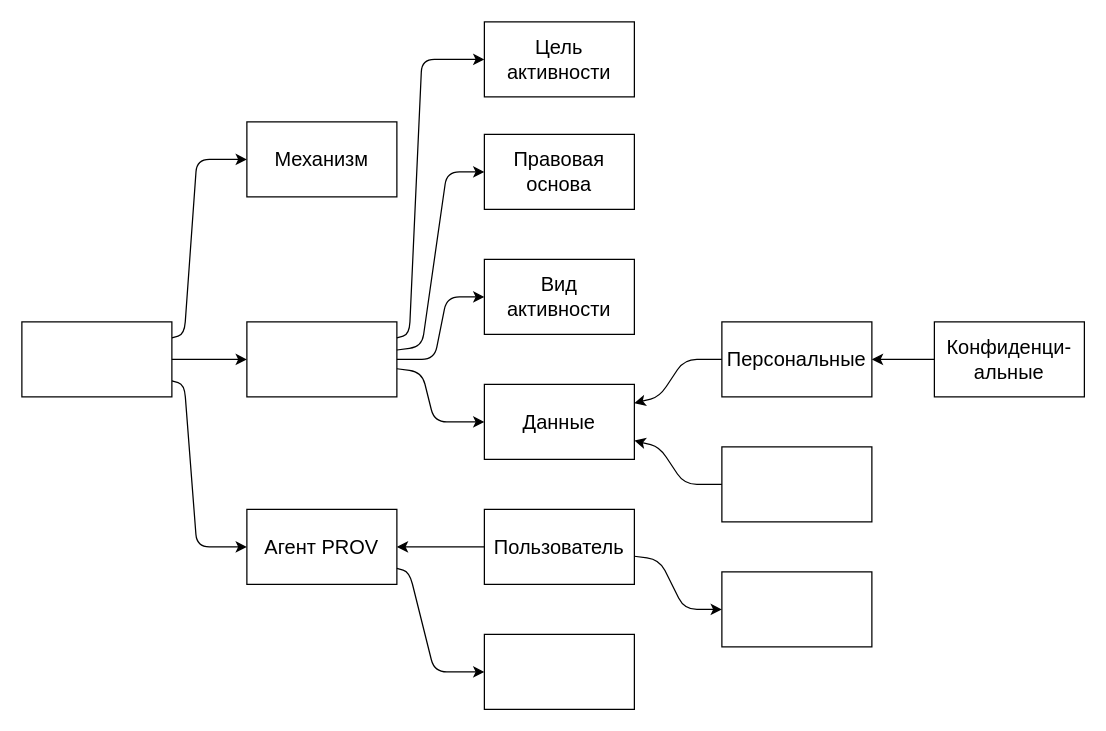
The diagram is 1106 pixels wide and 731 high, and some of its shapes have lost their labels. The centre of each missing label's shape, as x and y in pixels:
"Активность" belongs at point (321, 359).
"Категория" belongs at point (796, 609).
"Неперсональ-ные" belongs at point (796, 484).
"Сбор данных" belongs at point (96, 359).
"Третья сторона" belongs at point (558, 671).
